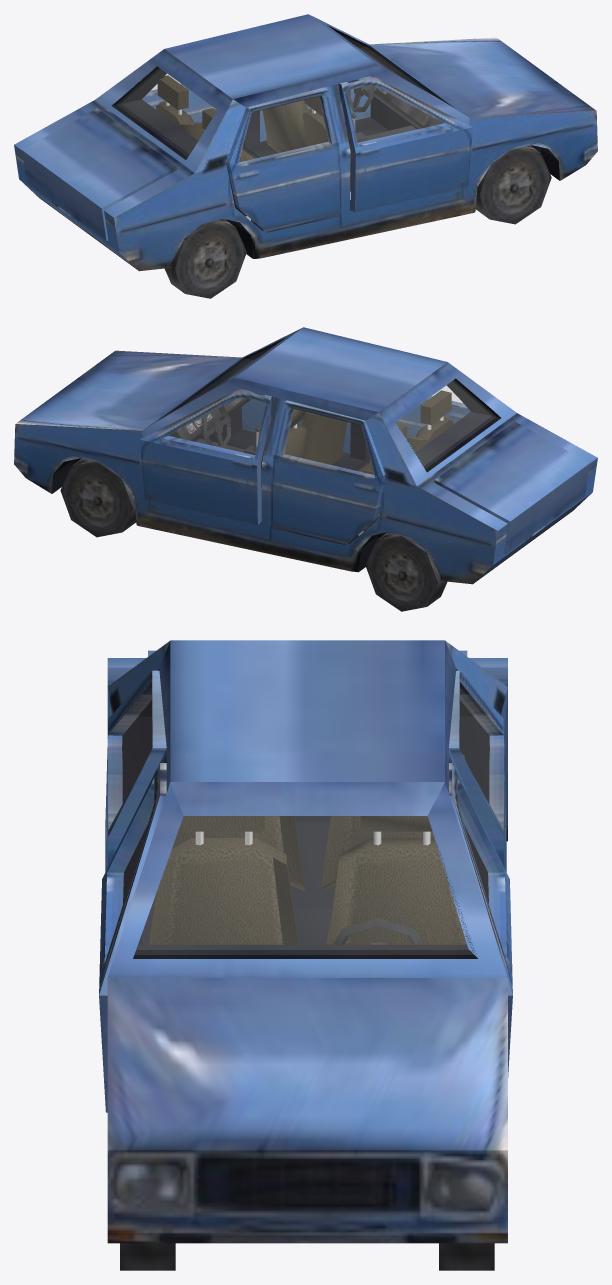
File: car.glb
3 renders of one model, top to bottom at view 1: azimuth 30°, elevation 25°; view 2: azimuth 150°, elevation 25°; view 3: azimuth 270°, elevation 25°, orthographic. The views are drawn at different scales.
Visible parts, largest first — view 1: Auto.002, Auto.005, Auto.006, Auto.001, Cylinder.046, Cylinder.047, Cylinder.050, Auto.003, Auto.004, Torus.002; view 2: Auto.002, Auto.003, Auto.004, Auto.001, Cylinder.043, Cylinder.044, Auto.005, Auto.006, Cylinder.050, Torus.002; view 3: Auto.002, Cylinder.050, Auto.005, Auto.003, Auto.006, Auto.004, Cylinder.044, Cylinder.047, Torus.002.
Part boxes in pixels (x1=…): Auto.002: x1=14, y1=14, x2=597, y2=271; Auto.005: x1=226, y1=87, x2=339, y2=232; Auto.006: x1=338, y1=76, x2=472, y2=212; Auto.001: x1=22, y1=108, x2=177, y2=240; Cylinder.046: x1=165, y1=219, x2=246, y2=298; Cylinder.047: x1=475, y1=145, x2=551, y2=224; Cylinder.050: x1=262, y1=100, x2=347, y2=152; Auto.003: x1=142, y1=74, x2=217, y2=130; Auto.004: x1=260, y1=89, x2=370, y2=141; Torus.002: x1=346, y1=84, x2=376, y2=112; Auto.002: x1=14, y1=327, x2=597, y2=584; Auto.003: x1=272, y1=400, x2=385, y2=544; Auto.004: x1=140, y1=389, x2=273, y2=524; Auto.001: x1=434, y1=421, x2=589, y2=554; Cylinder.043: x1=365, y1=532, x2=447, y2=611; Cylinder.044: x1=60, y1=458, x2=136, y2=537; Auto.005: x1=395, y1=386, x2=470, y2=437; Auto.006: x1=241, y1=399, x2=350, y2=453; Cylinder.050: x1=261, y1=409, x2=306, y2=487; Torus.002: x1=200, y1=406, x2=230, y2=448; Auto.002: x1=107, y1=640, x2=507, y2=1243; Cylinder.050: x1=326, y1=816, x2=466, y2=944; Auto.005: x1=105, y1=670, x2=166, y2=871; Auto.003: x1=449, y1=670, x2=506, y2=871; Auto.006: x1=99, y1=763, x2=166, y2=1112; Auto.004: x1=449, y1=763, x2=512, y2=1077; Cylinder.044: x1=439, y1=1243, x2=494, y2=1270; Cylinder.047: x1=120, y1=1243, x2=175, y2=1270; Torus.002: x1=333, y1=918, x2=422, y2=944.
Size of the model in its own units: 4.29 by 1.53 by 1.58.
5 materials, 3 textured.
